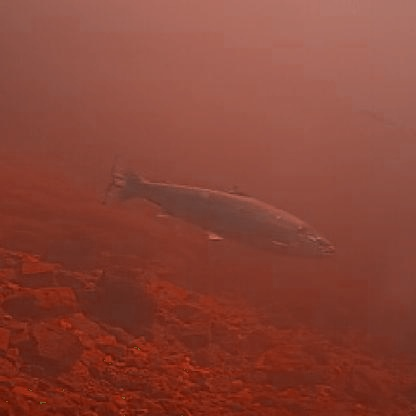salmon: (88, 144, 340, 262)
